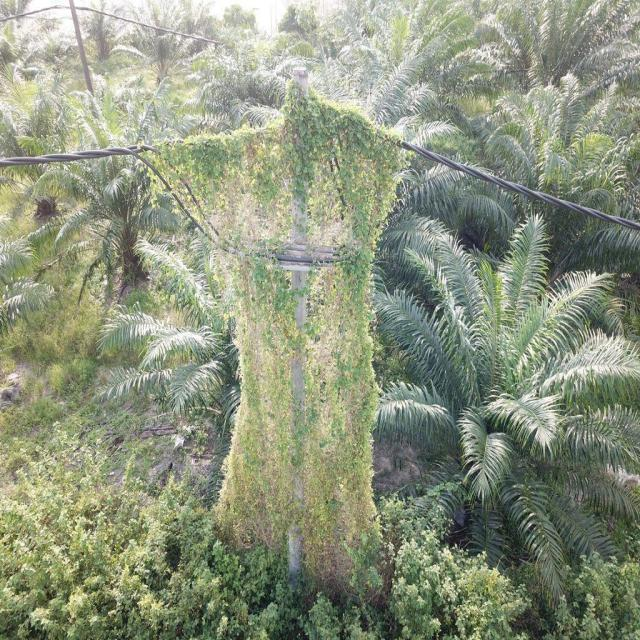critical vegetation: (131, 72, 407, 554)
